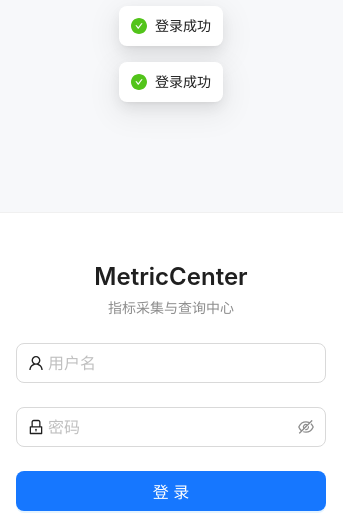
it: LoginPage › shows unified error message on failure and stores no token
Type "admin" into the field with placeholder "用户名".
click(173, 363); type("admin")  # box [48, 351, 298, 375]
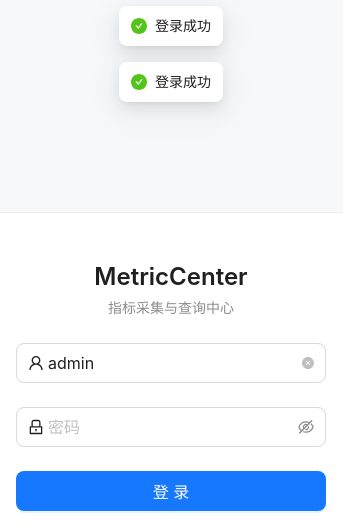
Type "wrong-password" into the password field with placeholder "密码".
click(171, 427); type("wrong-password")  # box [48, 415, 294, 439]
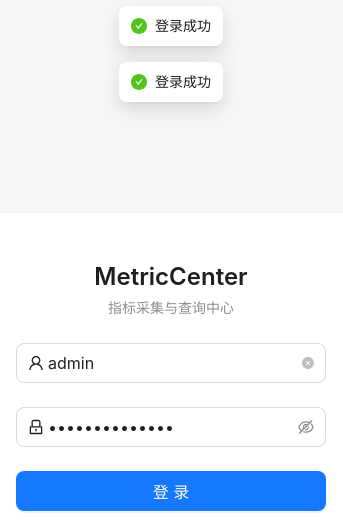
Click the button "登 录".
click(171, 491)  # box [16, 471, 326, 511]
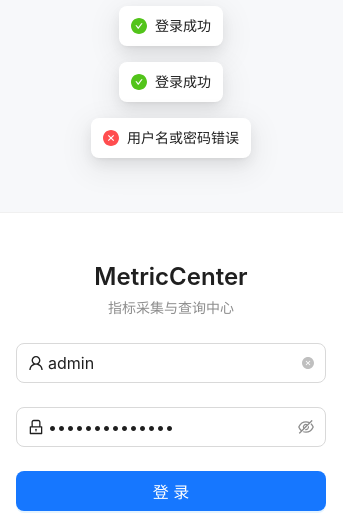
Now the text "用户名或密码错误" is shown, box [127, 127, 239, 149]
